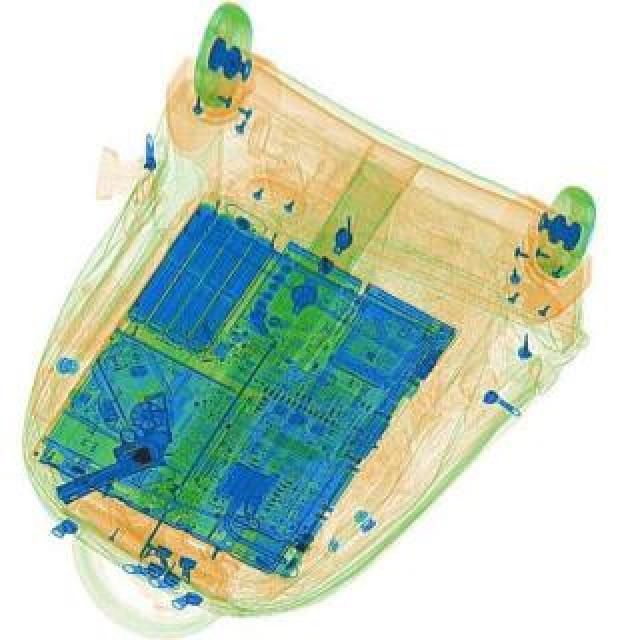gun: (34, 388, 194, 504)
